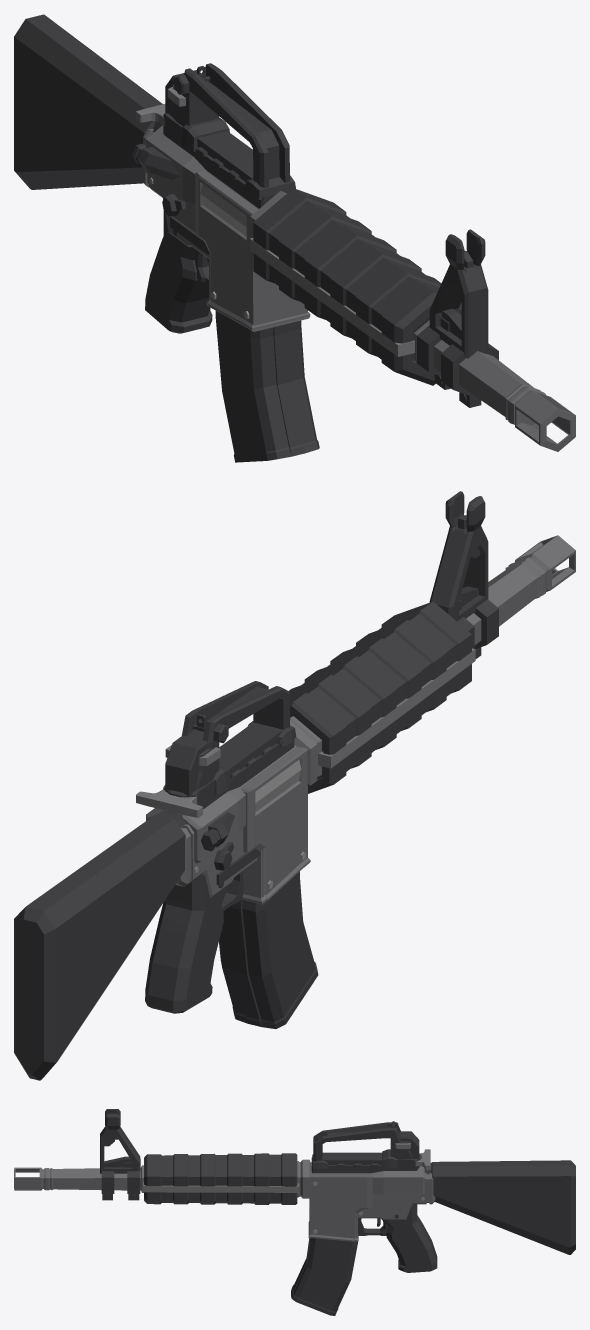
File: assault-rifle.obj
3 views of the same model, one above another, from view 1: azimuth 30°, elevation 25°; view 2: azimuth 150°, elevation 25°; view 3: azimuth 270°, elevation 25° (orthographic). The views are drawn at different scales.
Visible parts, largest first — view 1: assault-rifle.obj; view 2: assault-rifle.obj; view 3: assault-rifle.obj.
Part boxes in pixels (bbox=[...]): assault-rifle.obj: bbox=[14, 14, 575, 462]; assault-rifle.obj: bbox=[14, 491, 575, 1080]; assault-rifle.obj: bbox=[14, 1109, 575, 1315].
Bounding box in the file's own units: 0.1414 × 0.6099 × 1.56.
